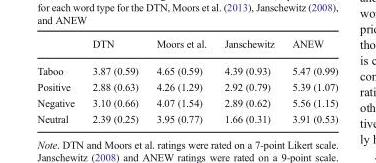table: (36, 37, 337, 124)
table column: (146, 37, 214, 124), (214, 37, 282, 124), (82, 37, 146, 124), (282, 37, 337, 124), (36, 37, 82, 124)
table column header: (36, 37, 337, 56)
table row: (36, 56, 337, 78), (36, 37, 337, 56), (36, 78, 337, 94), (36, 94, 337, 110), (36, 110, 337, 124)
